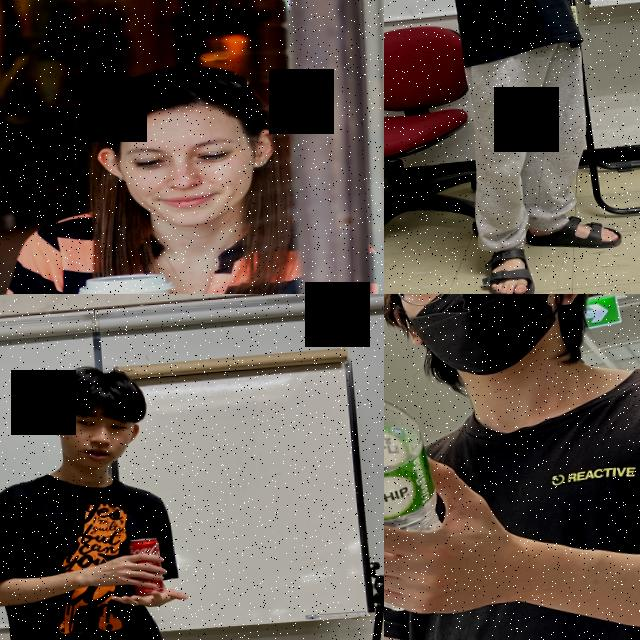bottle: (384, 368, 449, 616)
can: (127, 536, 166, 596)
cup: (74, 266, 188, 294)
